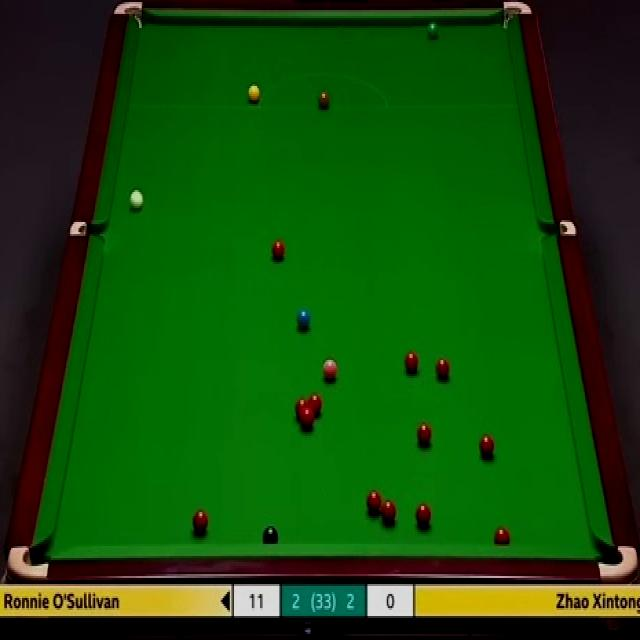black-ball: (262, 525, 280, 546)
blue-ball: (296, 308, 312, 329)
brown-ball: (318, 88, 330, 108)
green-ball: (426, 22, 439, 40)
pink-ball: (322, 359, 339, 384)
red-ball: (191, 508, 208, 535), (415, 504, 432, 530), (404, 349, 420, 375), (366, 490, 382, 516), (479, 434, 496, 458), (434, 353, 449, 380), (294, 398, 308, 422), (417, 421, 431, 445), (309, 393, 322, 418), (272, 237, 284, 264), (493, 526, 511, 543), (300, 411, 316, 430), (382, 491, 396, 512)
white-ball: (129, 189, 142, 213)
yellow-ball: (247, 86, 259, 102)
